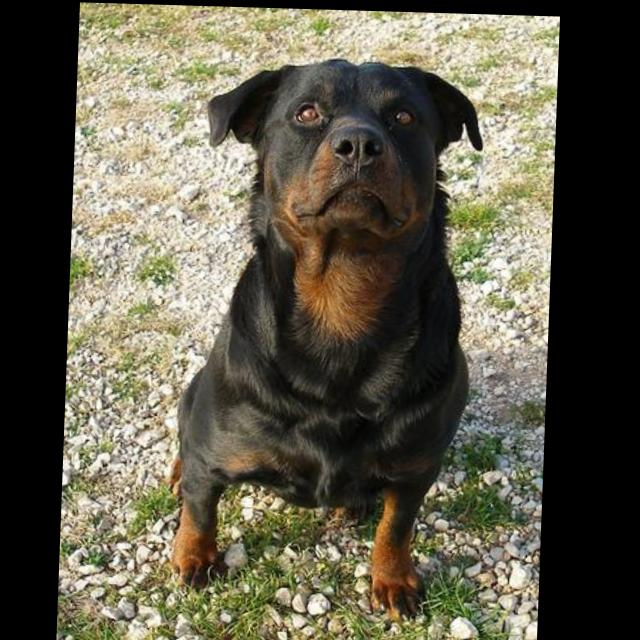rottweiler: (169, 52, 488, 623)
